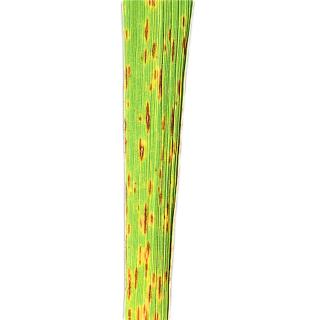Bercak-Cokelat-Sempit: (179, 11, 195, 65), (118, 169, 134, 219), (122, 265, 140, 305), (116, 221, 132, 265), (156, 141, 168, 197), (148, 65, 166, 100), (122, 113, 134, 163), (136, 241, 150, 281), (140, 203, 154, 237), (163, 197, 173, 241), (121, 60, 133, 92), (158, 268, 168, 306), (167, 29, 176, 67), (172, 74, 185, 100), (141, 16, 153, 44), (145, 100, 153, 138), (138, 134, 146, 170), (120, 22, 132, 46), (168, 104, 176, 136), (142, 1, 162, 13), (144, 283, 154, 305)
